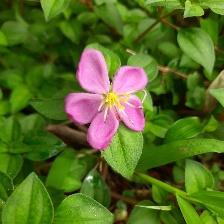malabar melastome: (64, 46, 147, 151)
